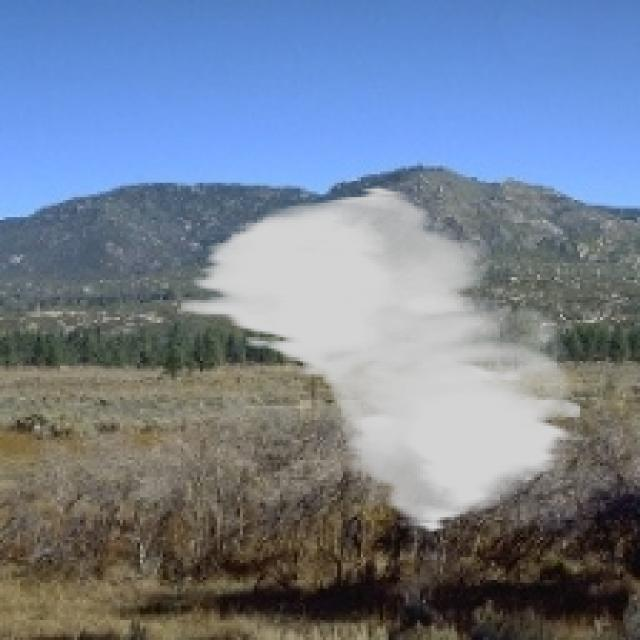smoke: (180, 186, 583, 534)
